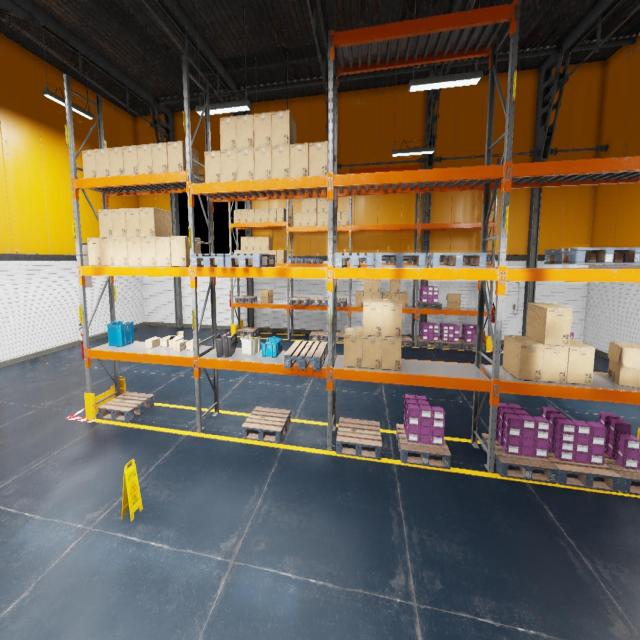box: (526, 336, 568, 383), (502, 335, 544, 381), (526, 303, 572, 345), (608, 341, 640, 388), (566, 338, 595, 384), (167, 141, 199, 177), (271, 110, 297, 146), (170, 236, 201, 266), (140, 208, 172, 236), (381, 299, 402, 337), (381, 336, 402, 371), (363, 298, 382, 336), (344, 328, 362, 367), (362, 336, 382, 370), (309, 141, 328, 176), (290, 143, 309, 177), (254, 112, 272, 147), (236, 114, 254, 149), (219, 115, 237, 150), (272, 144, 290, 178), (254, 146, 272, 179), (237, 148, 255, 180), (220, 150, 238, 182), (204, 150, 221, 182), (152, 142, 168, 172), (137, 144, 153, 174), (111, 208, 127, 238), (156, 237, 172, 266), (141, 237, 157, 266), (125, 208, 141, 237), (123, 145, 138, 175), (109, 146, 124, 176), (127, 237, 142, 266), (98, 209, 113, 238), (95, 148, 110, 176), (100, 238, 115, 266), (87, 238, 102, 266), (82, 149, 96, 178), (114, 238, 128, 266), (446, 294, 461, 310), (169, 331, 183, 348), (172, 338, 188, 351), (145, 336, 161, 348), (260, 290, 273, 304), (160, 335, 174, 347), (186, 339, 200, 350), (399, 292, 408, 308), (276, 250, 286, 263), (262, 237, 272, 250), (276, 208, 286, 221), (390, 280, 400, 292), (356, 291, 364, 306), (254, 208, 262, 222), (341, 211, 349, 225), (309, 198, 317, 212), (309, 212, 317, 226), (254, 237, 262, 250), (240, 209, 248, 222), (317, 198, 325, 211), (301, 199, 309, 212), (269, 208, 276, 222), (317, 212, 324, 226), (372, 279, 379, 292), (364, 279, 371, 292), (269, 250, 276, 263), (248, 237, 255, 250), (248, 209, 255, 222), (302, 213, 309, 226), (294, 213, 301, 226), (262, 208, 268, 222), (241, 237, 247, 250), (234, 210, 240, 222), (390, 292, 399, 299), (324, 212, 328, 226), (382, 292, 391, 298), (337, 212, 341, 225), (324, 198, 328, 211), (364, 293, 372, 298), (372, 293, 379, 298), (254, 250, 262, 253), (262, 250, 269, 253), (248, 250, 255, 253), (234, 250, 241, 253), (241, 250, 247, 253)
pallets: (481, 433, 558, 484), (548, 449, 621, 492), (396, 424, 451, 468), (336, 417, 382, 459), (242, 407, 290, 443), (98, 392, 154, 422), (544, 247, 640, 264), (604, 453, 640, 495), (284, 340, 327, 370), (425, 252, 487, 268), (375, 252, 426, 268), (225, 253, 275, 267), (334, 253, 374, 267), (190, 254, 234, 266), (459, 338, 485, 351), (438, 338, 462, 350), (417, 336, 440, 348), (236, 327, 258, 337), (418, 300, 442, 309), (309, 331, 327, 341), (310, 297, 328, 306), (235, 296, 257, 303), (290, 298, 311, 305), (440, 256, 464, 262), (402, 335, 412, 347), (390, 258, 412, 263), (304, 258, 323, 263), (337, 298, 347, 306), (336, 332, 344, 342), (288, 258, 304, 263), (374, 258, 388, 263), (486, 256, 491, 262), (361, 258, 366, 263), (623, 254, 625, 262)
